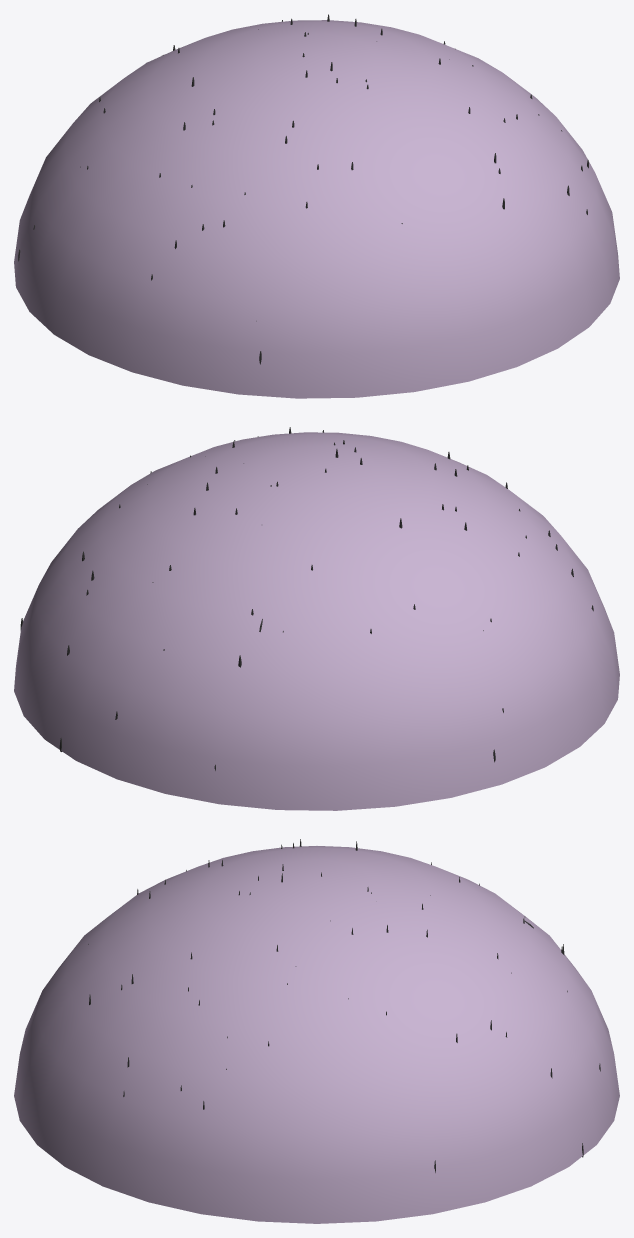
File: particule_000089.obj
The picture shows the model from 3 angles, top to bottom: view 1: azimuth 30°, elevation 25°; view 2: azimuth 150°, elevation 25°; view 3: azimuth 270°, elevation 25°; orthographic projection.
Parts seen in each view (by area): view 1: Sphère, pluie_Cube.043; view 2: Sphère, pluie_Cube.043; view 3: Sphère, pluie_Cube.043.
Boxes of the visible parts, x1,y1,x2,y2 form: Sphère: (14, 20, 619, 398); pluie_Cube.043: (18, 14, 588, 364); Sphère: (14, 432, 619, 810); pluie_Cube.043: (20, 427, 593, 770); Sphère: (14, 846, 619, 1223); pluie_Cube.043: (88, 839, 600, 1172).
Bounding box in the file's own units: 63430 × 26128 × 63430.
